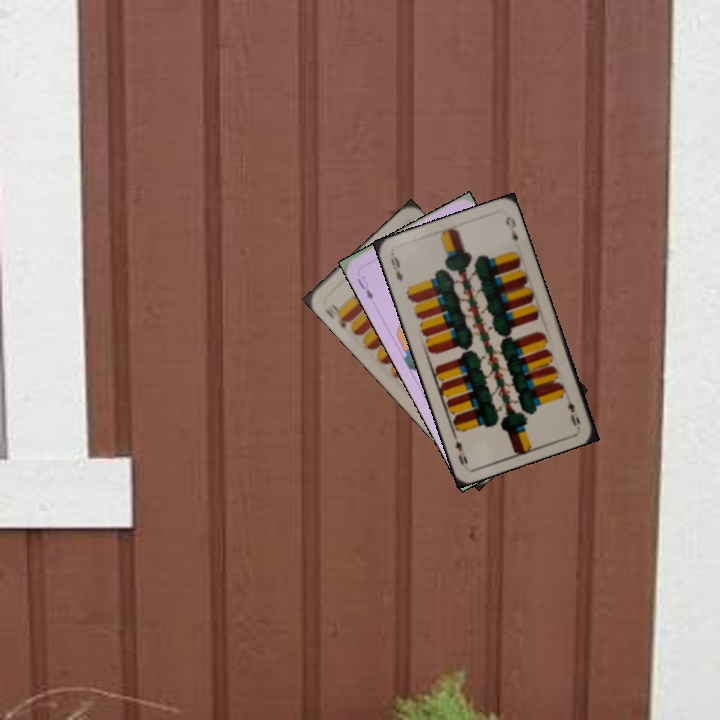E10: (321, 300, 353, 331)
E9: (562, 390, 582, 429), (386, 251, 406, 283)
EU: (353, 272, 376, 302)
